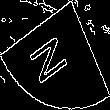N_NE: (31, 24, 79, 86)
